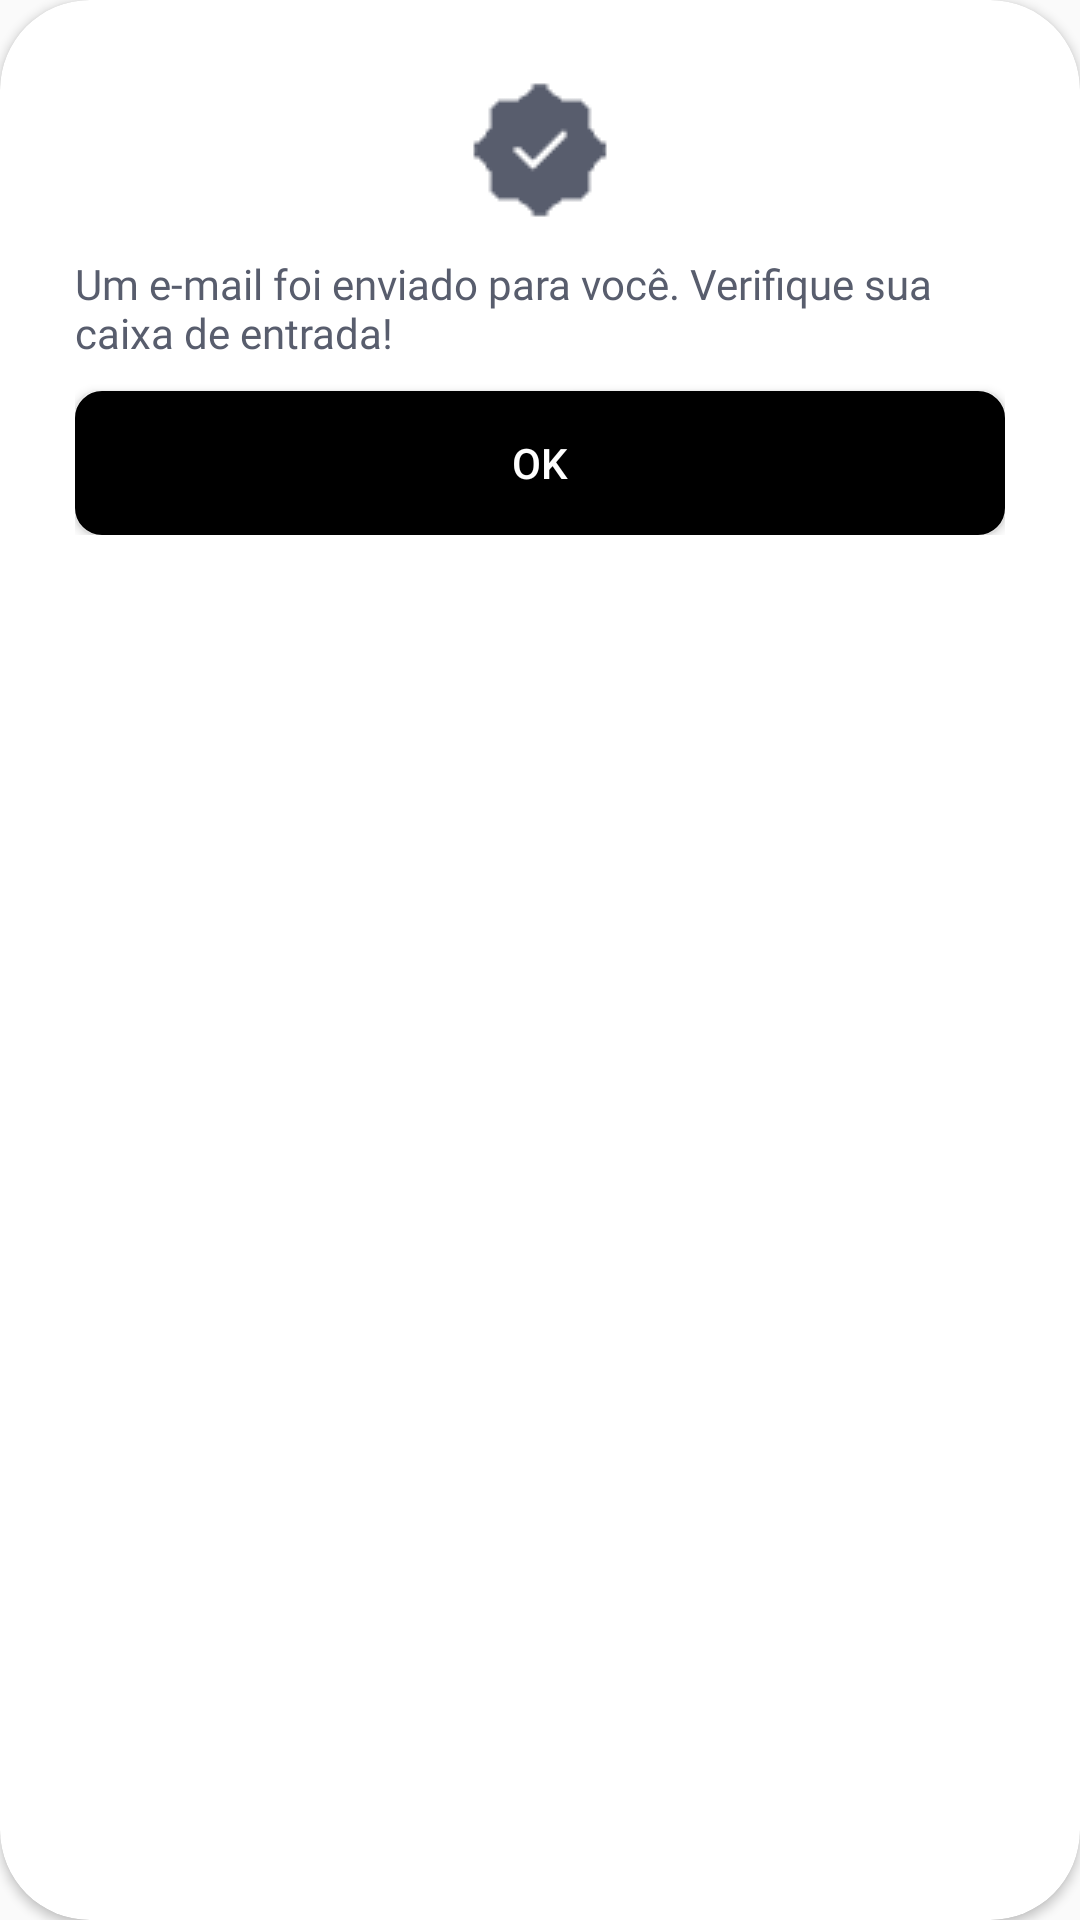

Screen size 1080 × 1920. Icon name, then its center in pixels as (x=x, y=y):
Selo de concluído com sucesso: (x=540, y=150)
